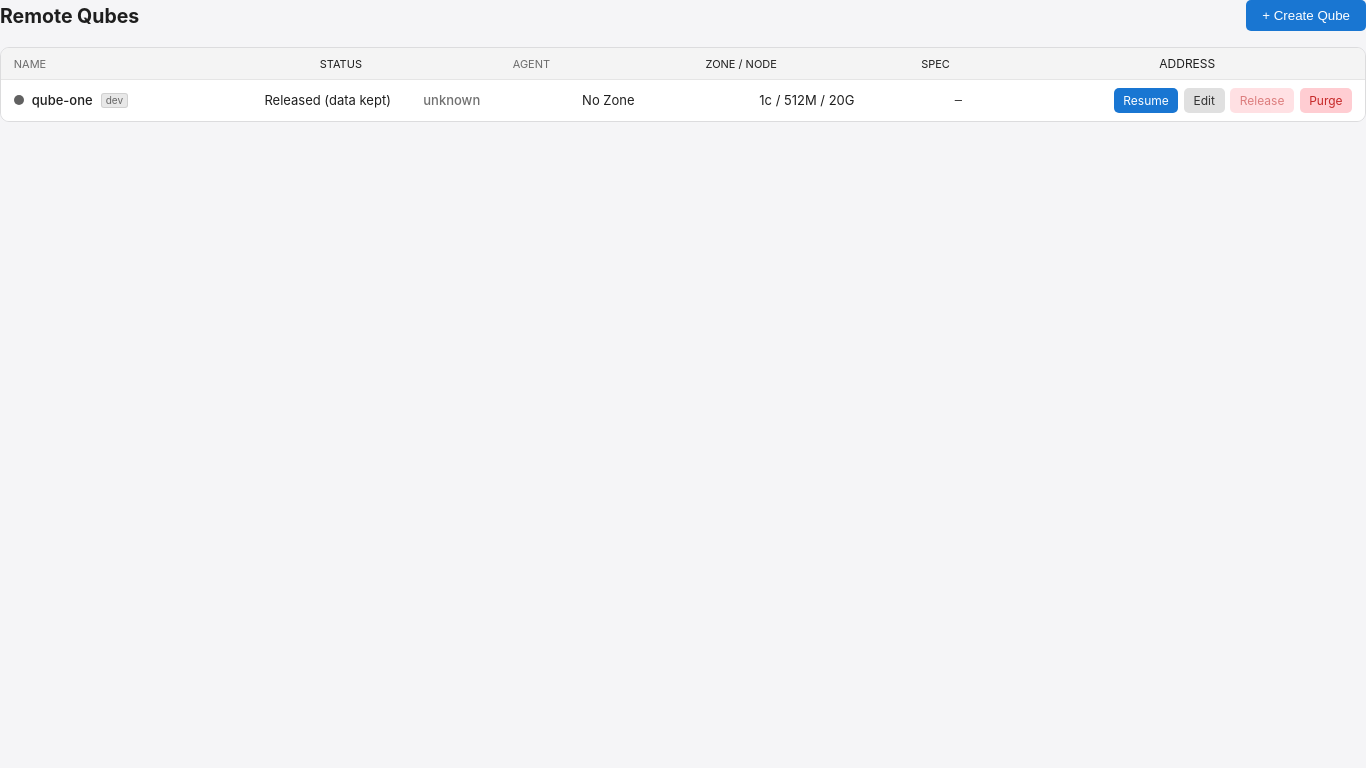
Test case: QubeList edit flow › keeps the edit dialog open and shows a backend refusal
Expected: the 7th text "qube-one" is shown, x1=32 y1=92 x2=93 y2=108
Click the 2nd button named "edit": coordinates (1204, 100) x1=1184 y1=88 x2=1225 y2=113
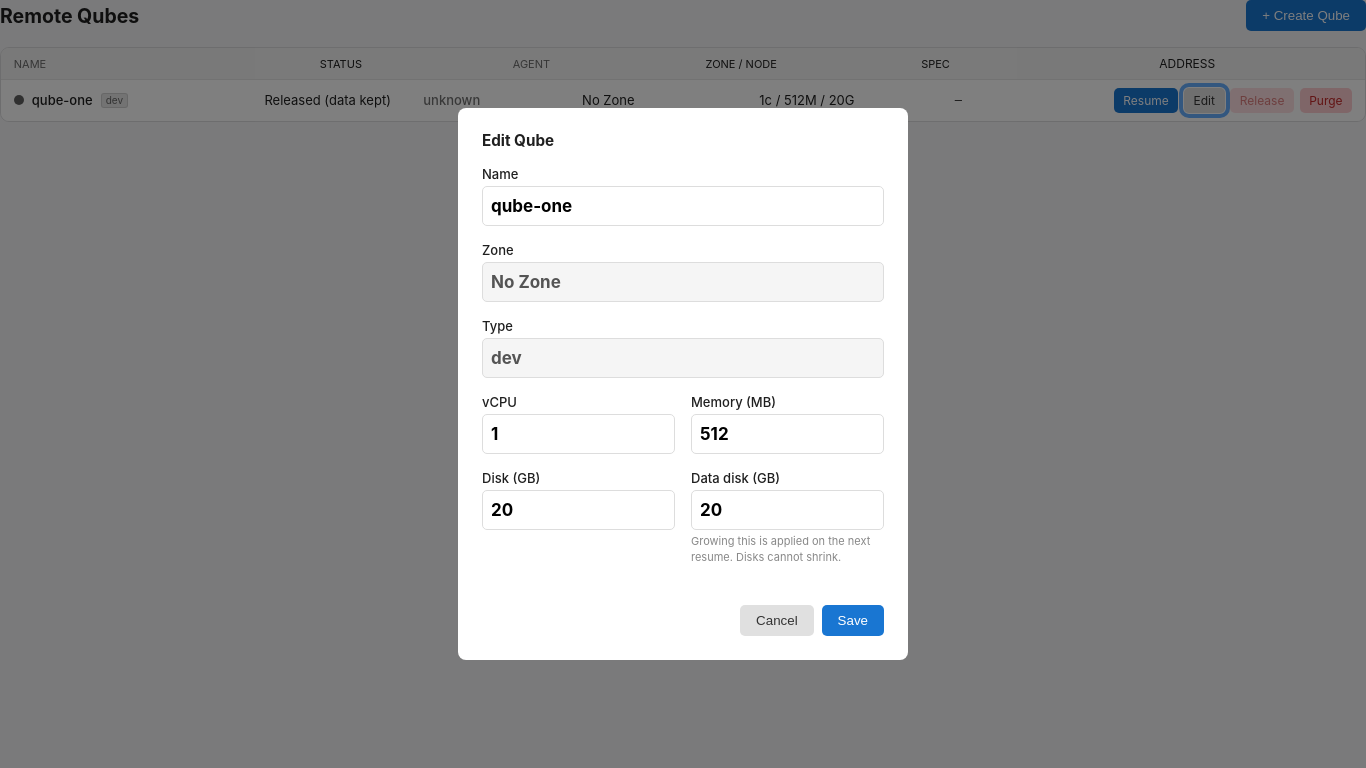
Click the button "Save": coordinates (853, 621) x1=822 y1=605 x2=884 y2=636
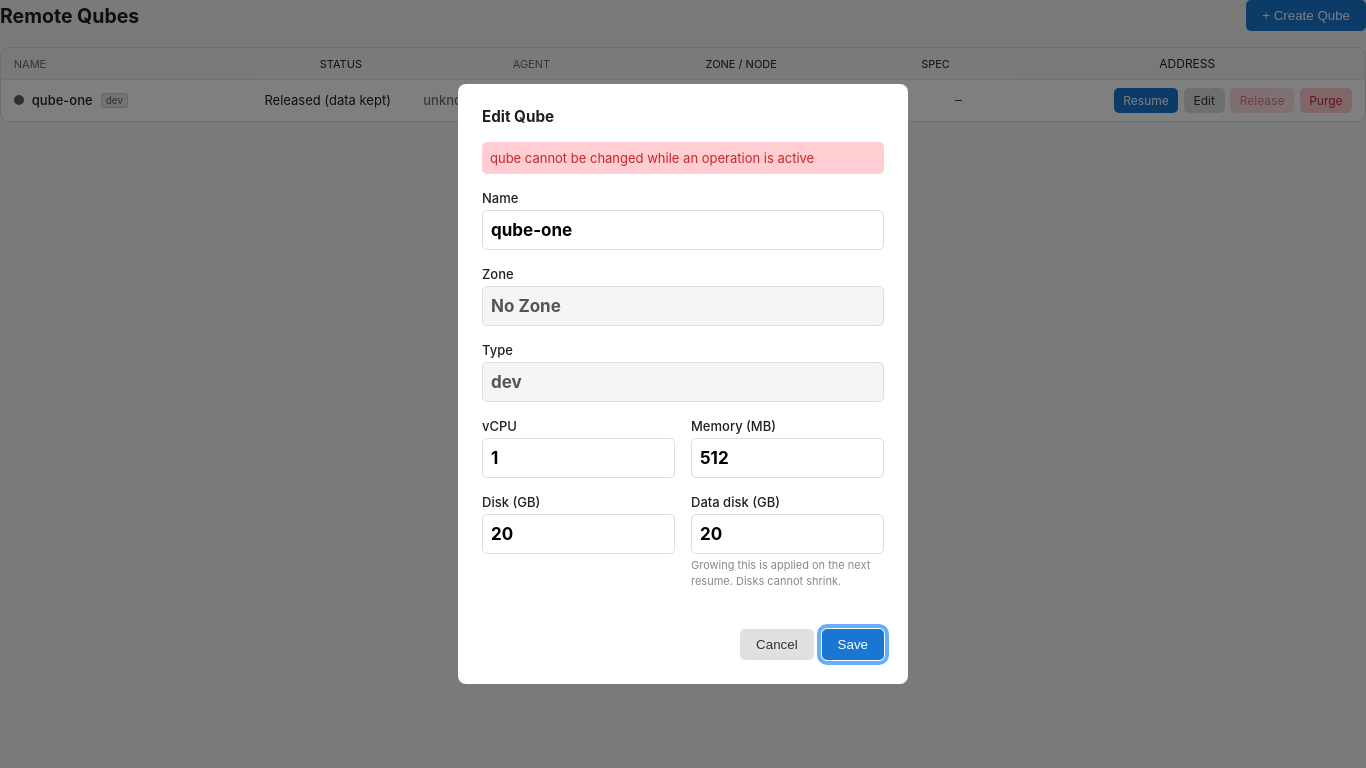
Now the dialog named "edit qube" is shown, box x1=458 y1=84 x2=908 y2=684
Now the 1st text "cannot be changed while an operation is active" is shown, box x1=490 y1=150 x2=814 y2=166
